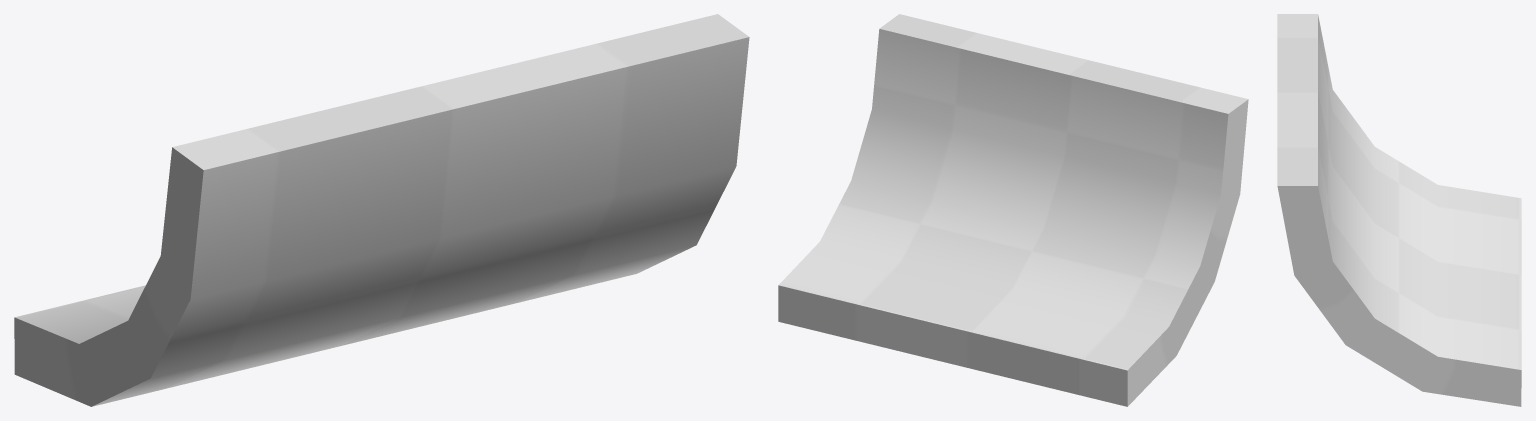
Rendered from enginehall_end_floor_corner_small_round.fbx.
The picture shows the model from 3 angles, left to right: view 1: azimuth 30°, elevation 25°; view 2: azimuth 150°, elevation 25°; view 3: azimuth 270°, elevation 25°; orthographic projection. The views are drawn at different scales.
Visible parts, largest first — view 1: enginehall_end_floor_corner_small_round; view 2: enginehall_end_floor_corner_small_round; view 3: enginehall_end_floor_corner_small_round.
Boxes of the visible parts, x1,y1,x2,y2 form: enginehall_end_floor_corner_small_round: [14, 14, 749, 406]; enginehall_end_floor_corner_small_round: [778, 14, 1248, 406]; enginehall_end_floor_corner_small_round: [1277, 14, 1521, 406].
Size of the model in its own units: 200 by 120 by 120.
